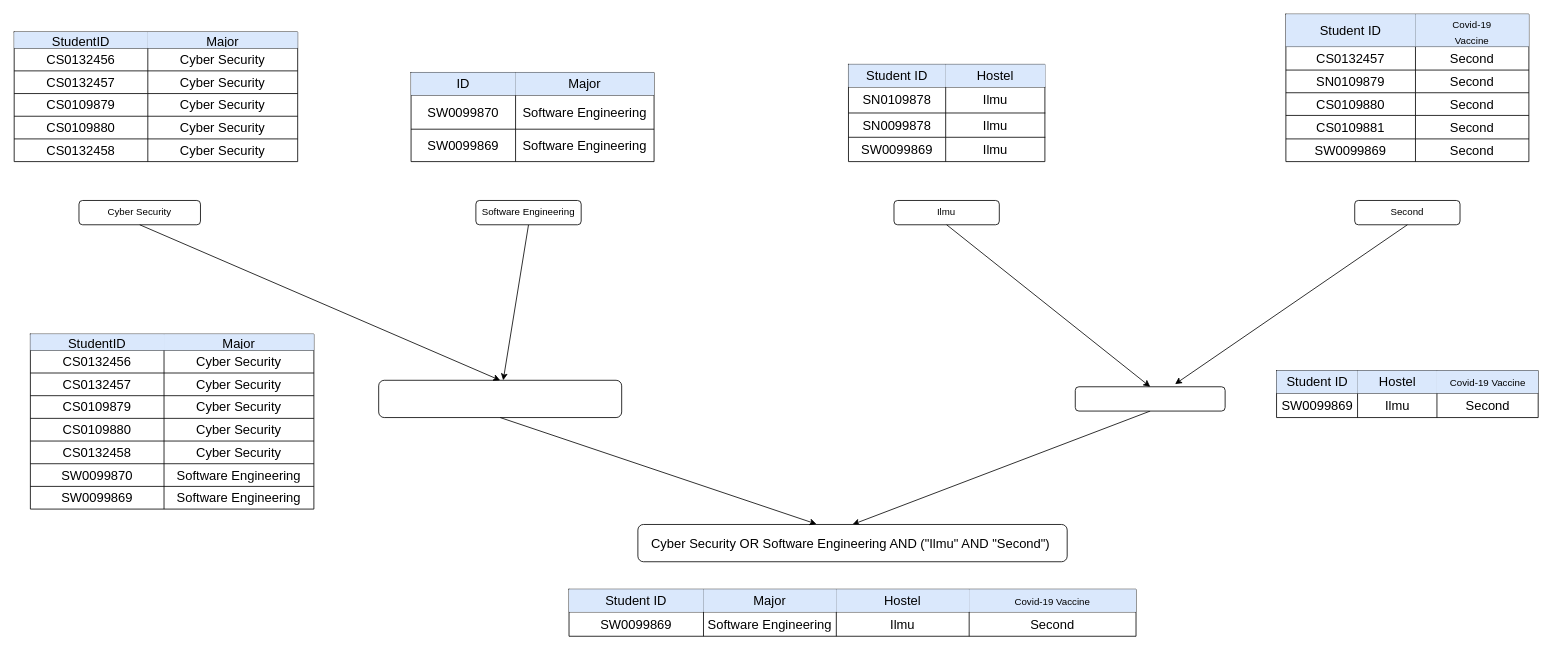
Image size: 1553x650. Some labels were removed from this diagram. Here are the shapes that lost their labels. From the top down, the centre of each, then its label:
(500,398): Cyber Security OR Software Engineering
(1149,398): "Ilmu" AND "Second"
